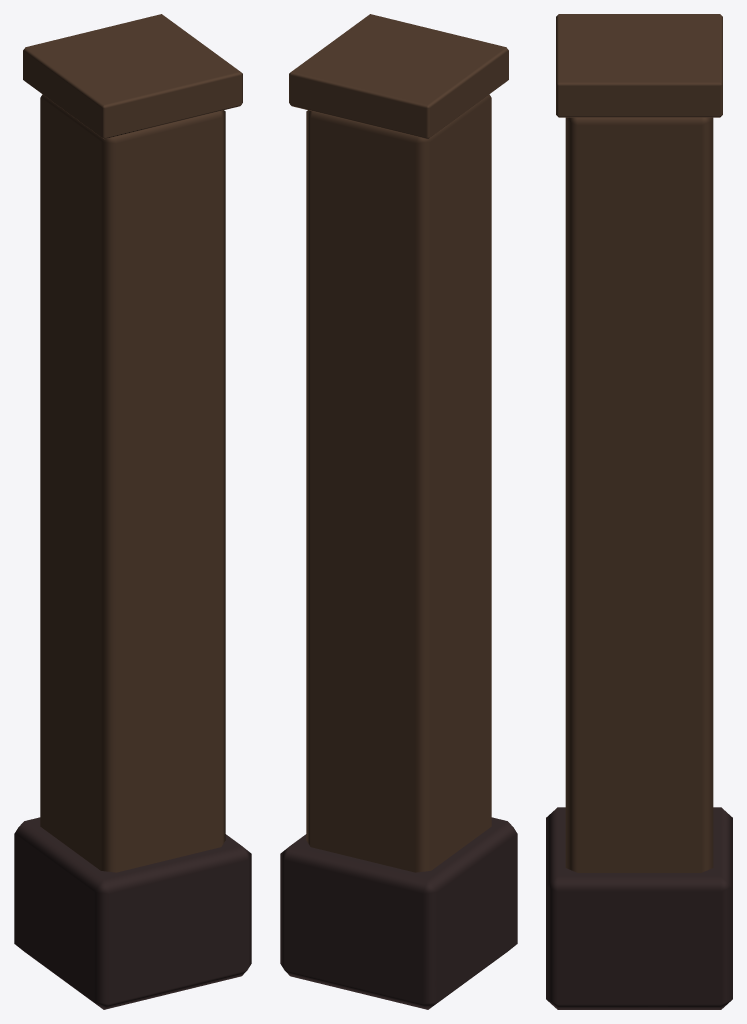
The model's file is railcar-post-end.b7513221.glb.
3 renders of one model, left to right at view 1: azimuth 30°, elevation 25°; view 2: azimuth 150°, elevation 25°; view 3: azimuth 270°, elevation 25°, orthographic. The views are drawn at different scales.
Visible parts, largest first — view 1: body; view 2: body; view 3: body.
Part boxes in pixels (left/top/right/bottom): body: left=14, top=14, right=251, bottom=1009; body: left=280, top=14, right=517, bottom=1009; body: left=546, top=14, right=732, bottom=1009.
Bounding box in the file's own units: 0.38 × 2.08 × 0.38.
